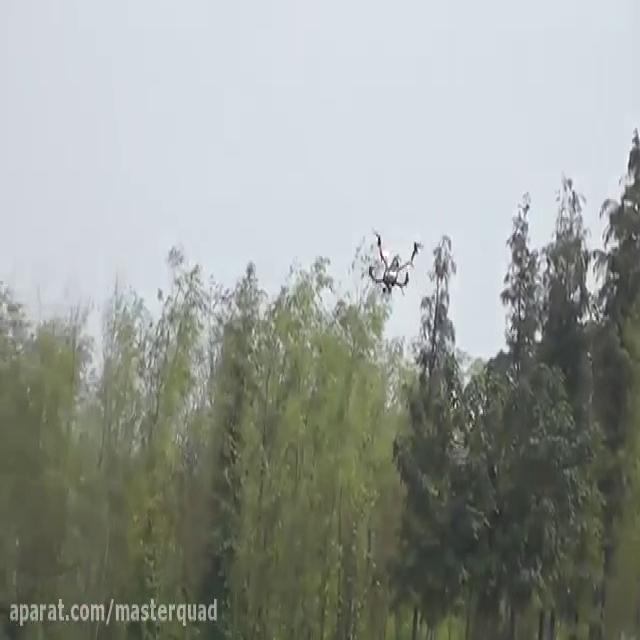drone: (362, 222, 428, 297)
